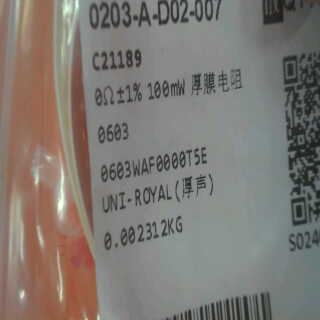0R: (94, 76, 147, 143)
